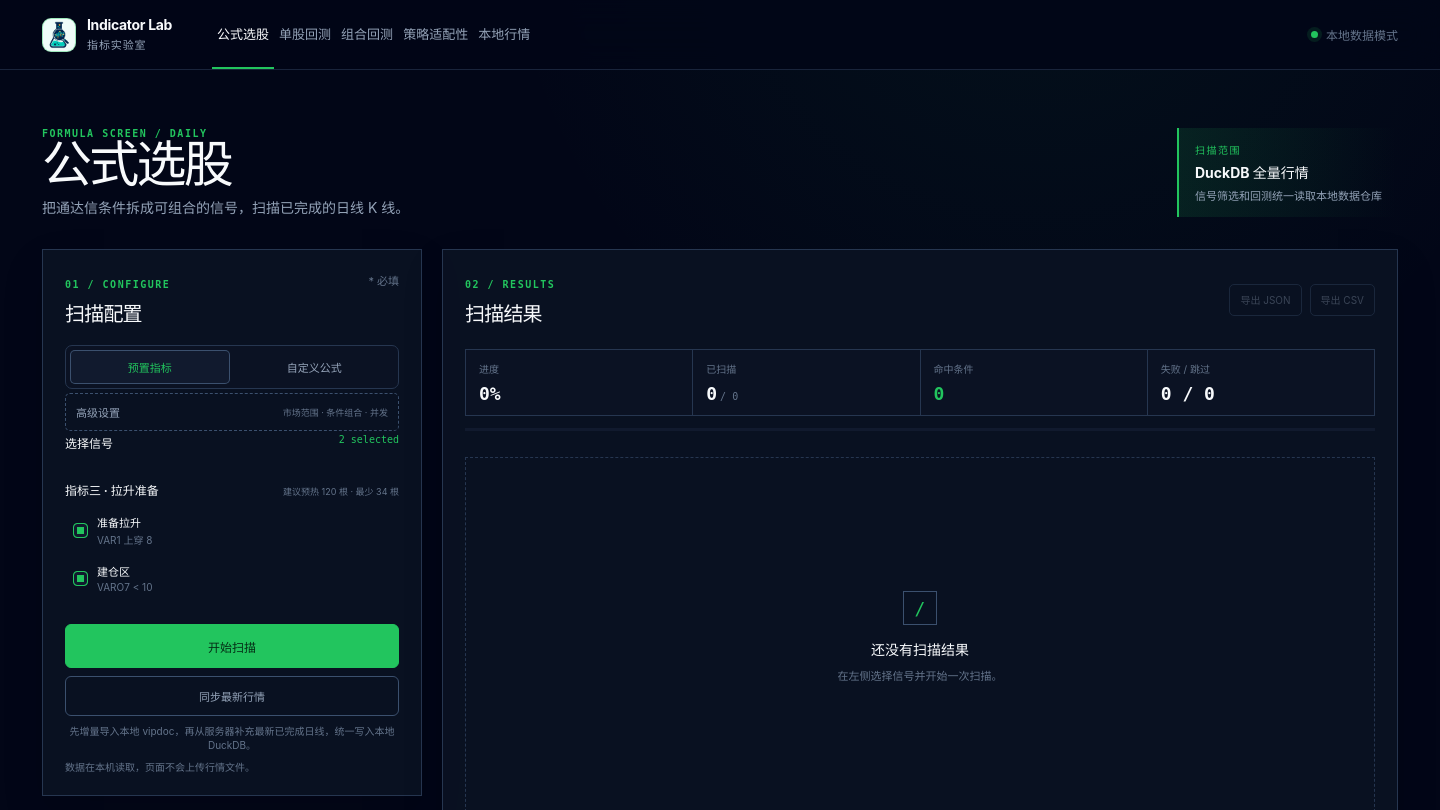
it: FormulaScreenPage › requires reparsing after a custom formula is edited
Click the tab with test id "mode-custom" at [314, 367], box x1=234 y1=350 x2=394 y2=384
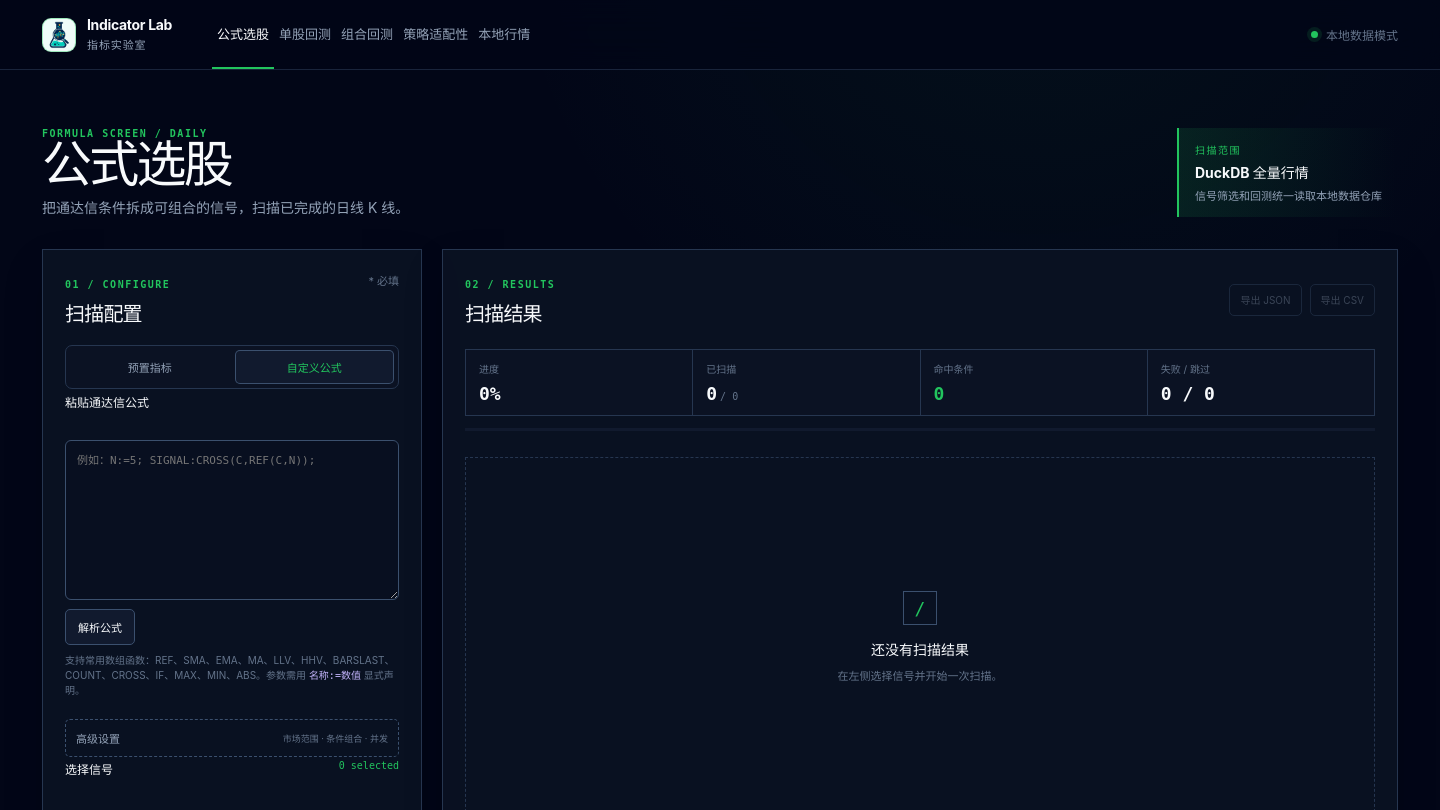
Type "N:=5; BREAKOUT:CROSS(C,REF(C,N));" into the text box with test id "custom-formula" at [232, 520], box x1=65 y1=440 x2=399 y2=600
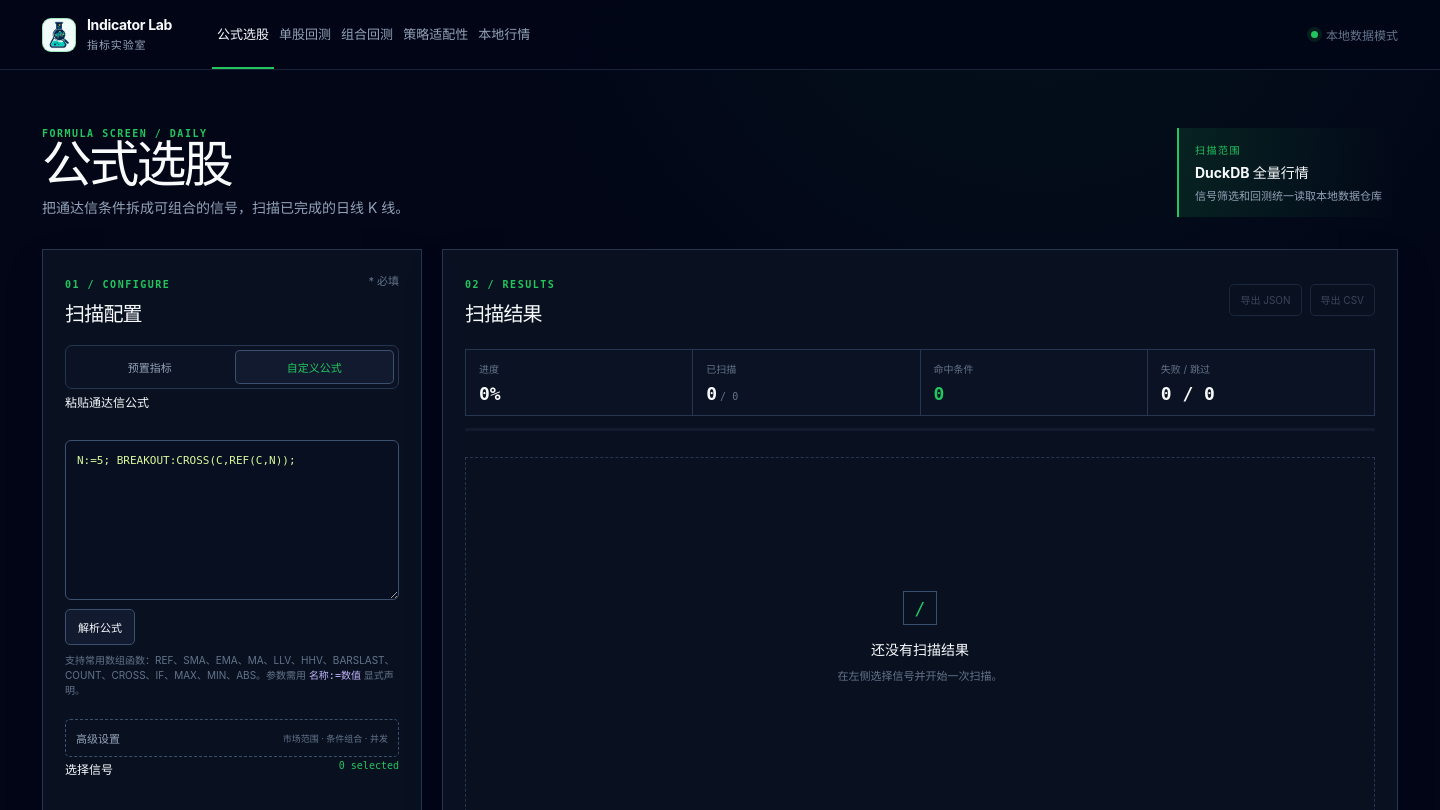
Click the button with test id "parse-formula" at [100, 627], box x1=65 y1=609 x2=135 y2=645
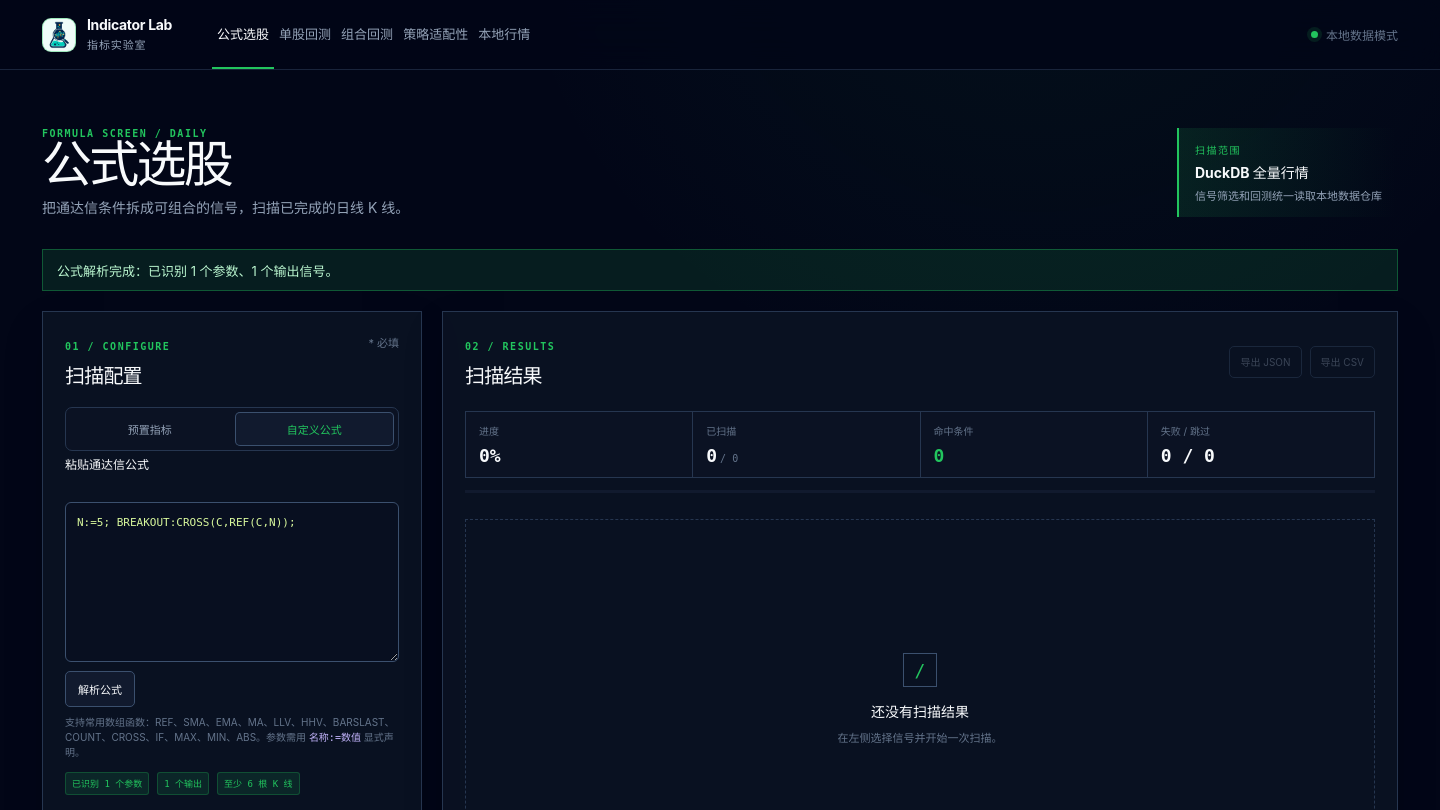
expect the element with test id "custom-formula-meta" is shown: met, box x1=65 y1=772 x2=300 y2=795
Replace the text in the text box with test id "custom-formula" with "N:=6; BREAKOUT:CROSS(C,REF(C,N));" at [232, 582], box x1=65 y1=502 x2=399 y2=662
(page scrolled)
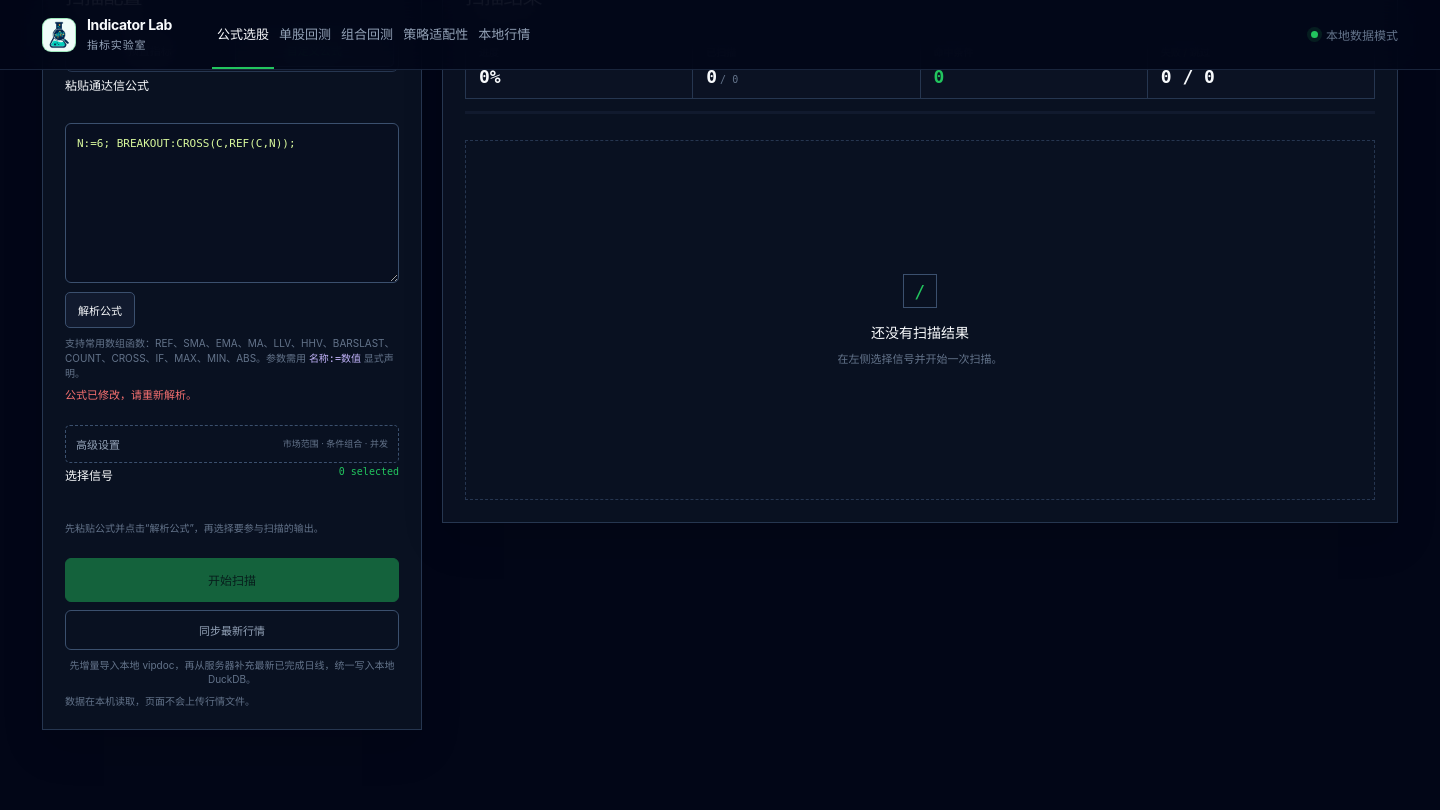
expect the button with test id "start-scan" is disabled: met, box x1=65 y1=558 x2=399 y2=602
